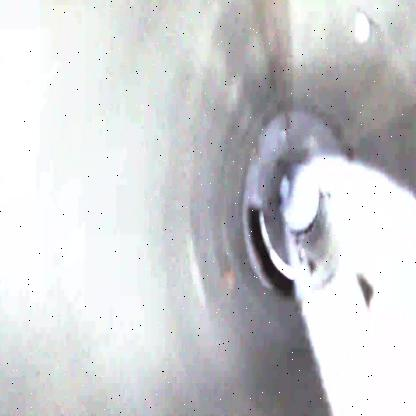Crack2: (241, 206, 300, 304)
